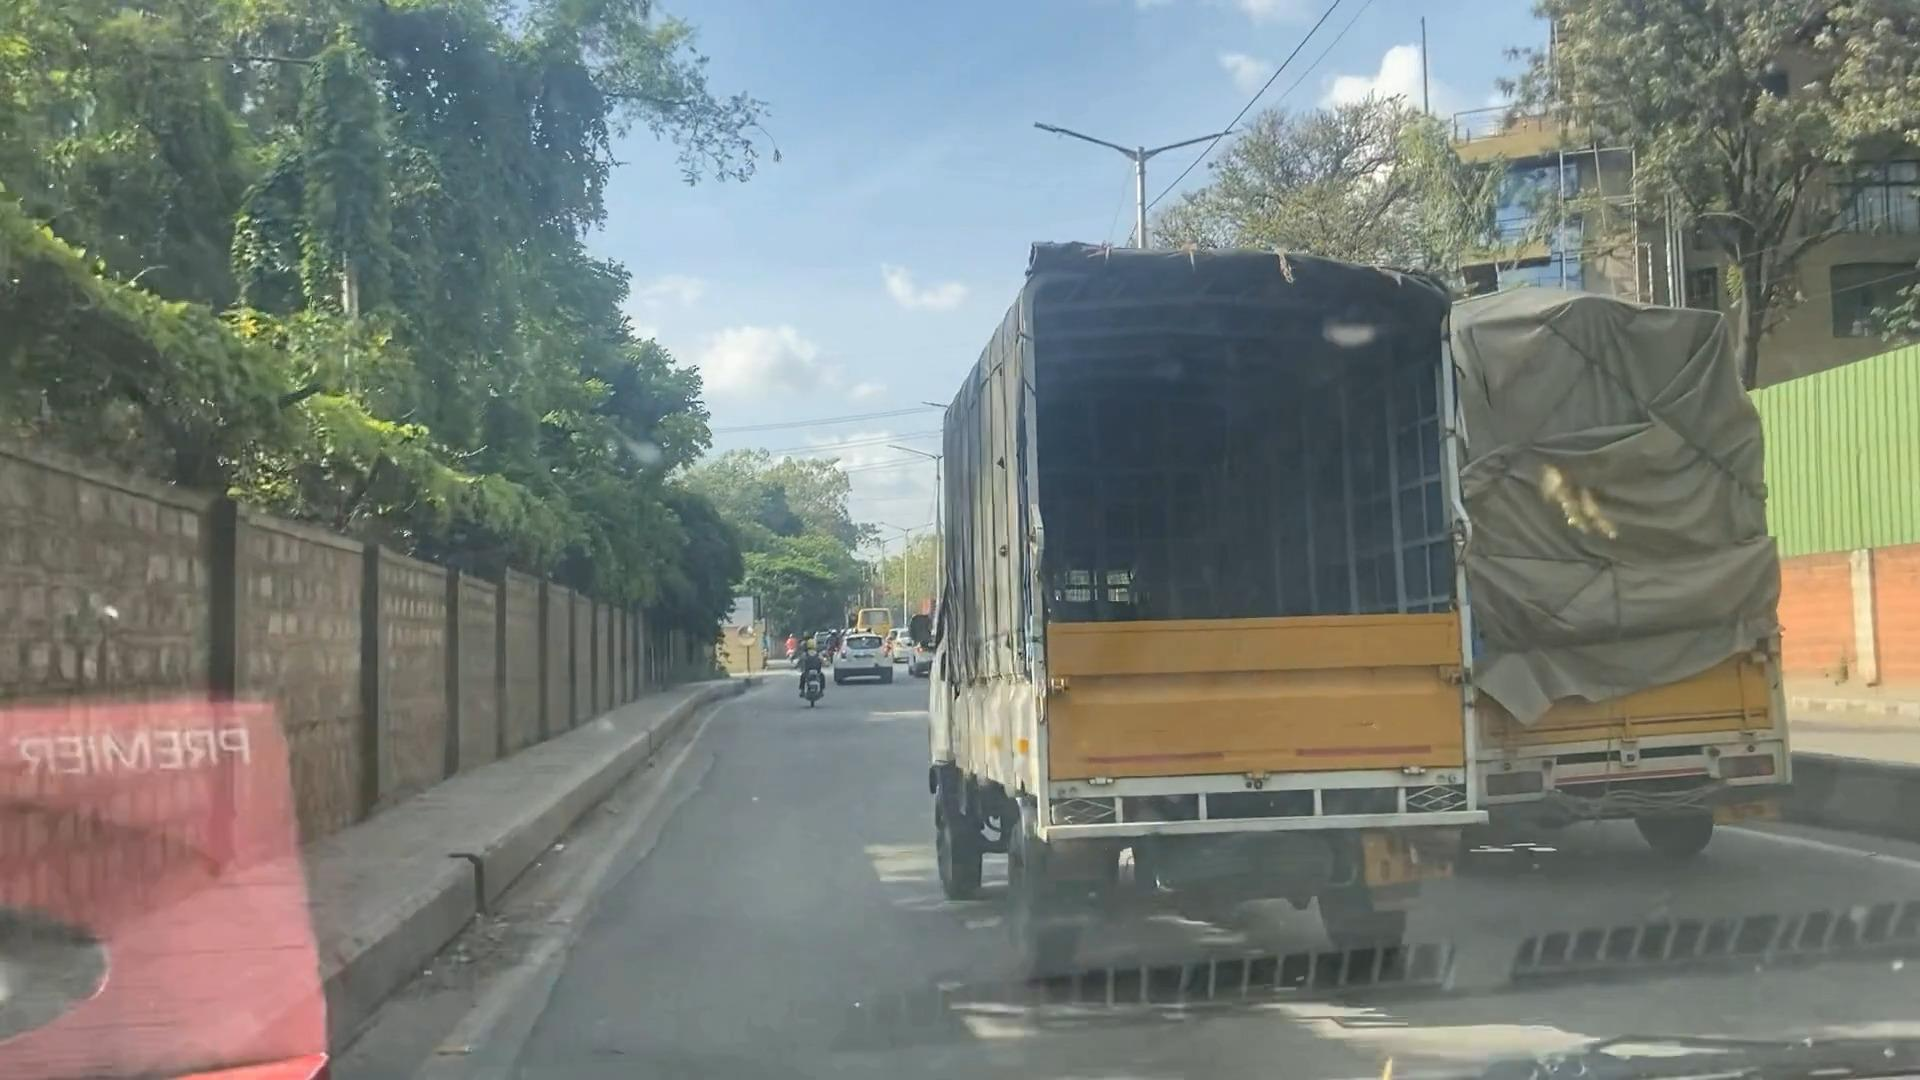HMV: (902, 128, 1569, 1043), (1444, 224, 1838, 897)
